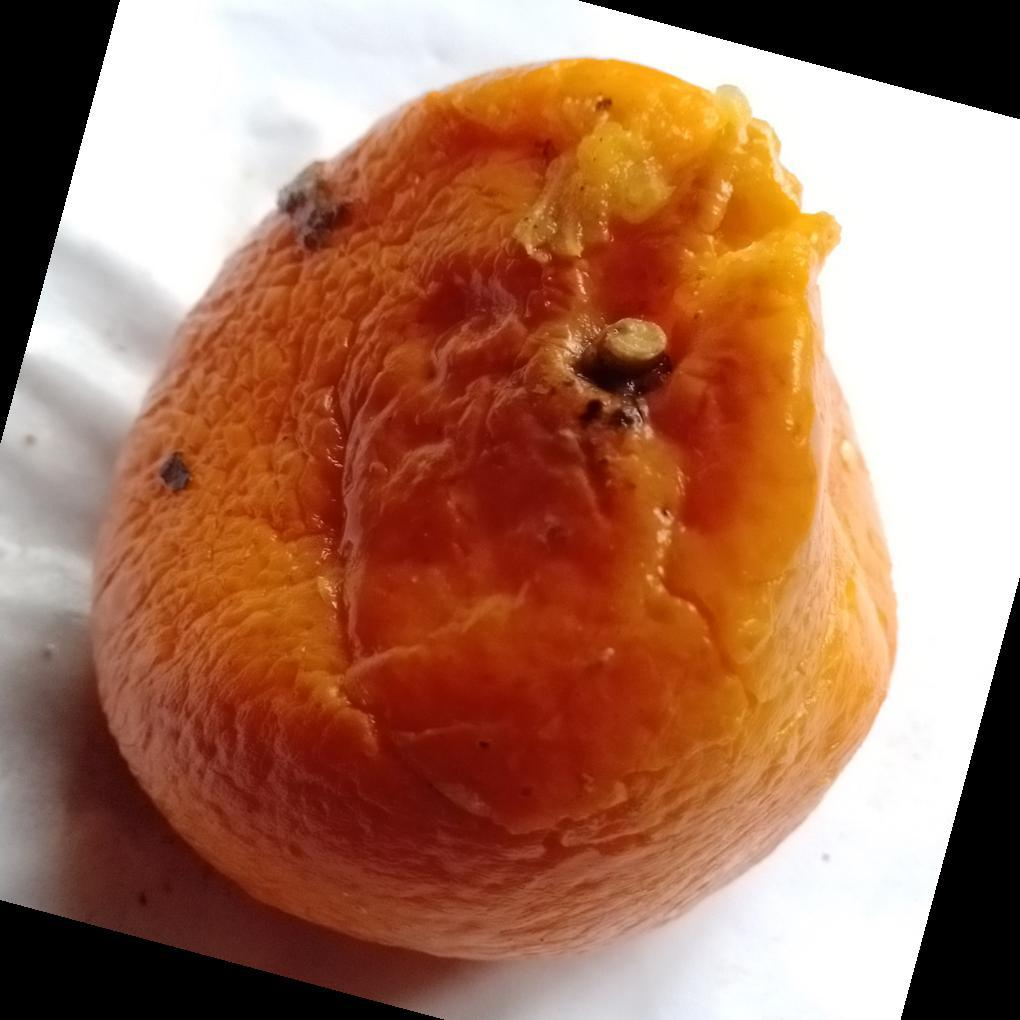FreshOrange: (85, 57, 900, 968)
